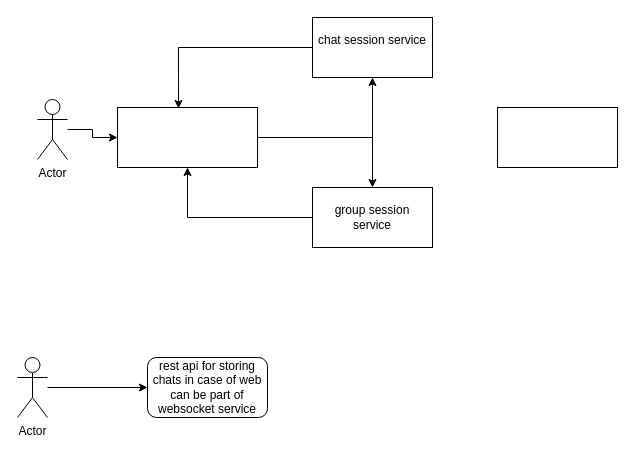
This 635x456 diagram has some shape labels left out. Each missing label, with the centre of its shape:
"Queue for chat or qroups service getting failed" belongs at [557,137].
"websocket or gateway many of such" belongs at [187,137].
